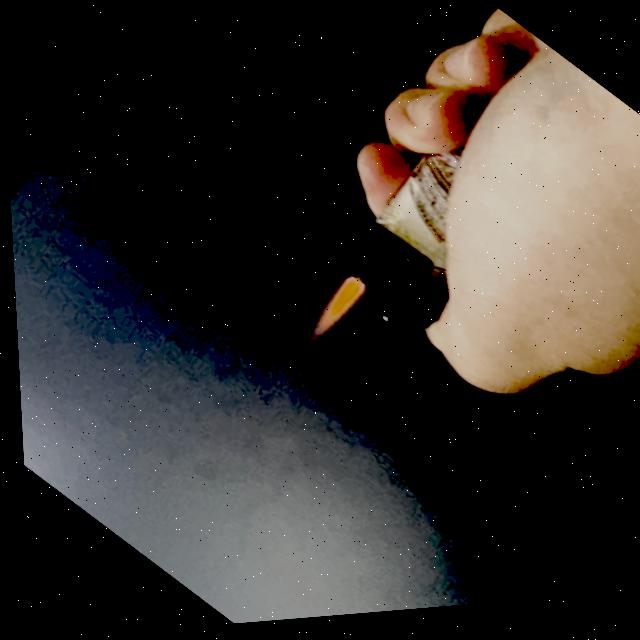Fire: (297, 279, 366, 353)
